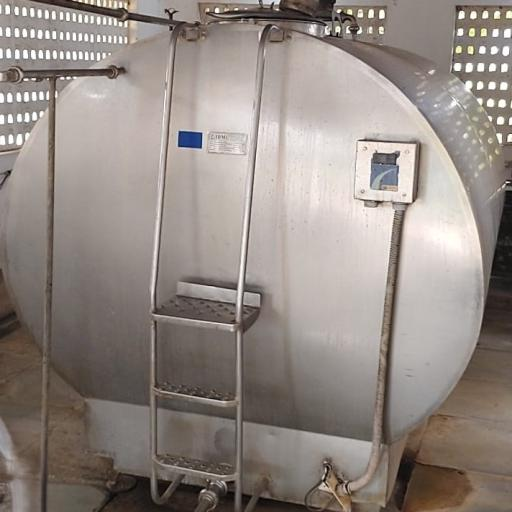silo: (1, 8, 509, 508)
